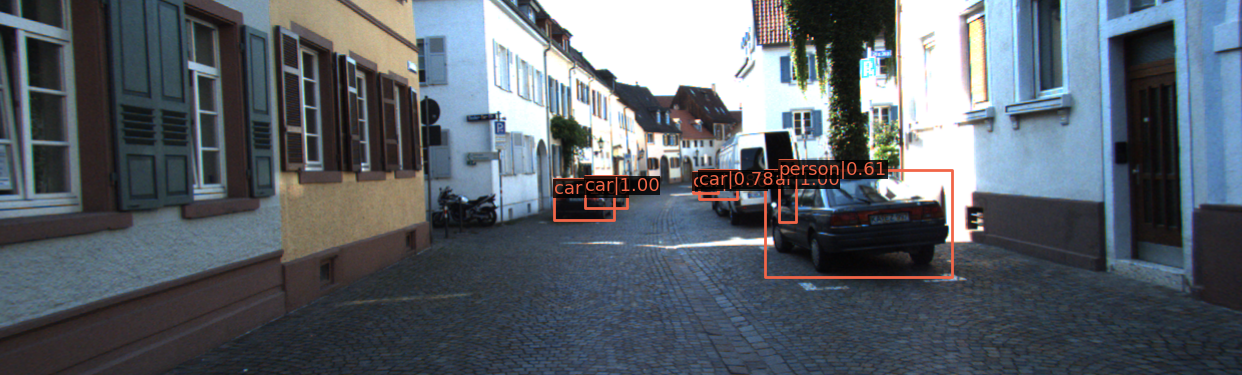car: (763, 172, 948, 279), (554, 182, 612, 222), (587, 178, 626, 209), (702, 172, 736, 201)
